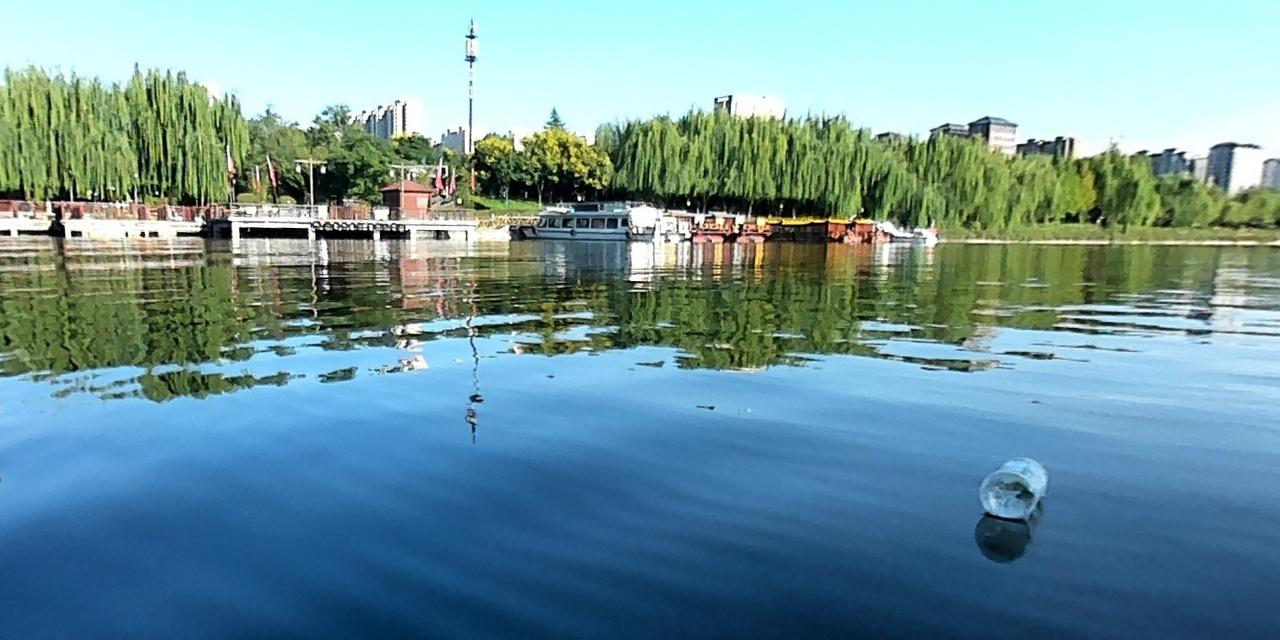bottle: (971, 452, 1051, 523)
